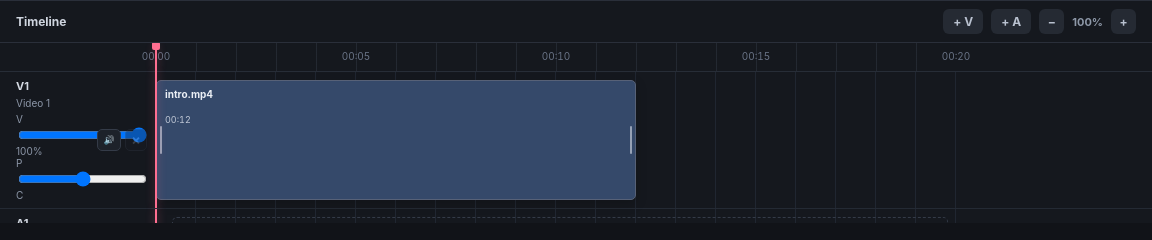
Scenario: Timeline › moves the playhead when the ruler is clicked
Click the element with class "timeline-ruler-scale".
click(556, 57)  # box [156,43,956,71]
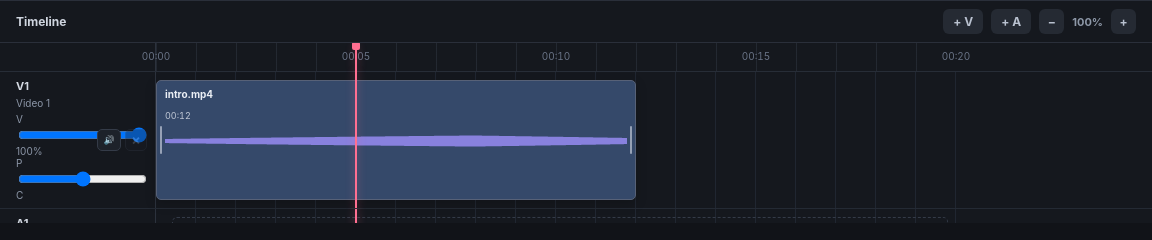
Expected: the element named "Playhead at 00:05" is shown, [355,43,357,72]
